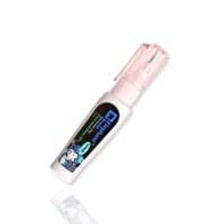correction_fluid: (44, 40, 170, 186)
